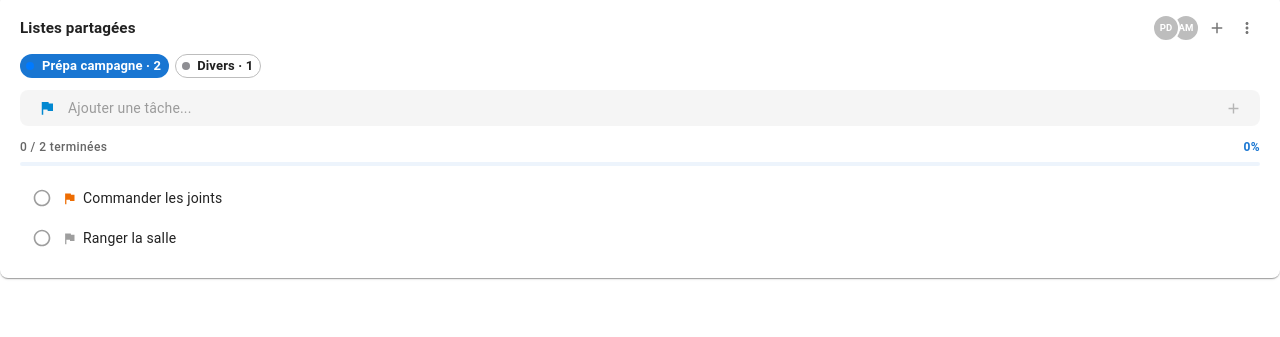
Scenario: SharedTasksWidget › crée une tâche via la saisie rapide (Entrée)
In the field with placeholder "Ajouter une tâche...": coordinates (640, 108) x1=68 y1=90 x2=1212 y2=126, type "Nouvelle mission"
Then press Enter
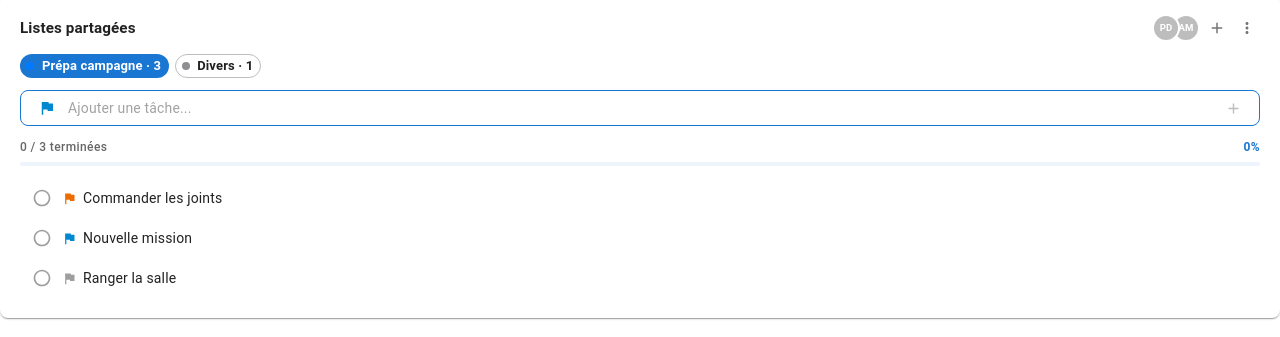
Result: the text "Nouvelle mission" is shown at x1=83 y1=230 x2=192 y2=246
Result: the text "0 / 3 terminées" is shown at x1=20 y1=138 x2=107 y2=158
